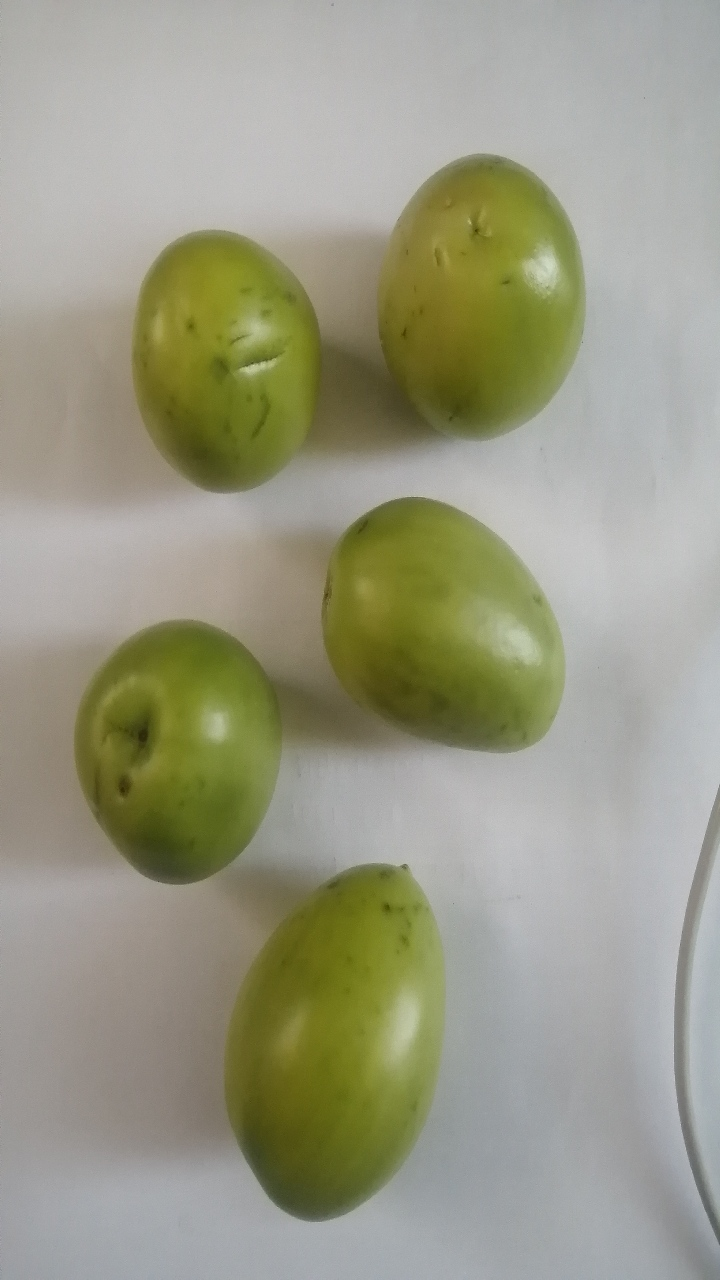tomateVerde: (177, 848, 480, 1240), (286, 468, 583, 800), (344, 117, 603, 475), (68, 609, 289, 908), (121, 212, 324, 506)
